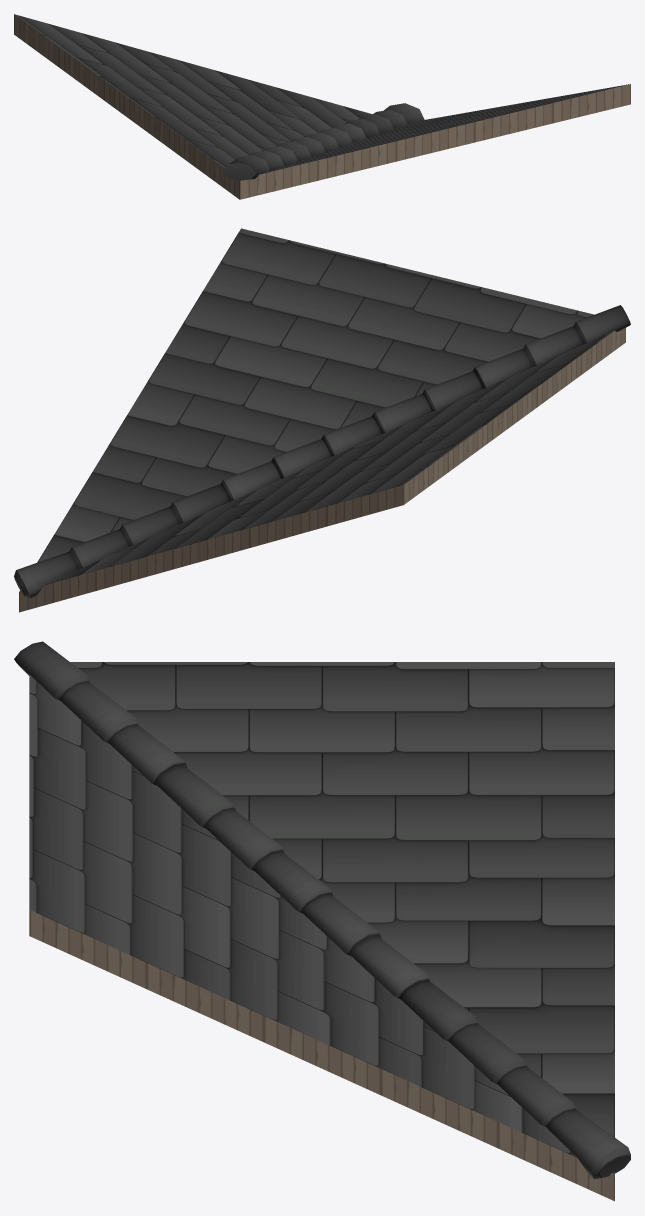
The model's file is SM_House_Roof_Corner_03.obj.
The picture shows the model from 3 angles, top to bottom: view 1: azimuth 30°, elevation 25°; view 2: azimuth 150°, elevation 25°; view 3: azimuth 270°, elevation 25°; orthographic projection. The views are drawn at different scales.
Visible parts, largest first — view 1: SM_House_Roof_Corner_03_mat_HouseRoof_01, SM_House_Roof_Corner_03_mi_HouseExteriorWalls_01; view 2: SM_House_Roof_Corner_03_mat_HouseRoof_01, SM_House_Roof_Corner_03_mi_HouseExteriorWalls_01; view 3: SM_House_Roof_Corner_03_mat_HouseRoof_01, SM_House_Roof_Corner_03_mi_HouseExteriorWalls_01.
Boxes of the visible parts, x1,y1,x2,y2 form: SM_House_Roof_Corner_03_mat_HouseRoof_01: [14, 14, 628, 180]; SM_House_Roof_Corner_03_mi_HouseExteriorWalls_01: [14, 14, 630, 199]; SM_House_Roof_Corner_03_mat_HouseRoof_01: [14, 228, 630, 598]; SM_House_Roof_Corner_03_mi_HouseExteriorWalls_01: [19, 328, 625, 612]; SM_House_Roof_Corner_03_mat_HouseRoof_01: [14, 641, 630, 1178]; SM_House_Roof_Corner_03_mi_HouseExteriorWalls_01: [29, 909, 614, 1201].
Bounding box in the file's own units: 5.27 × 2.94 × 5.27.
Materials: 3 (2 with a texture image).
